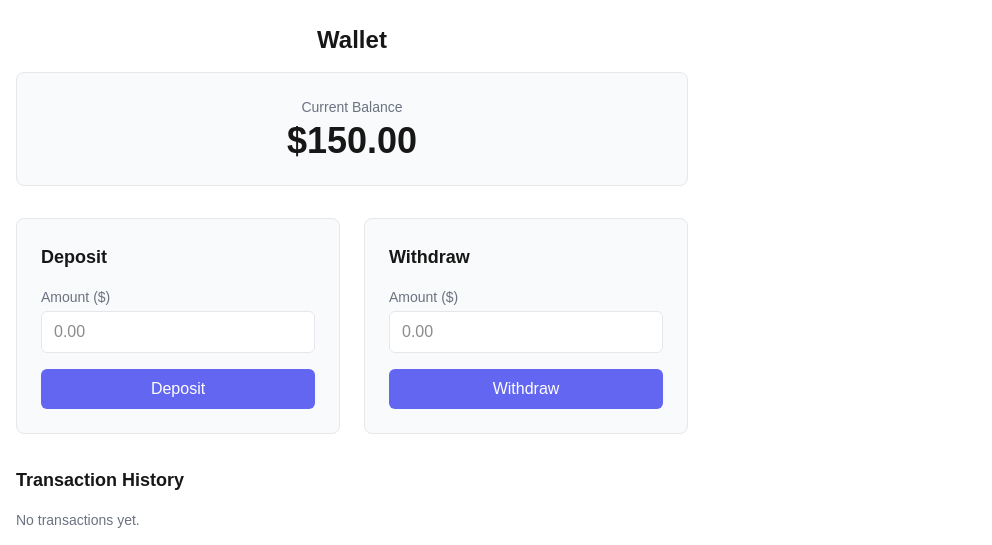
it: WalletPage › submits withdrawal and shows success toast
Type "25" into the 2nd number field labelled "Amount ($)". click: (526, 332)
box: top-left (389, 311), bottom-right (663, 353)
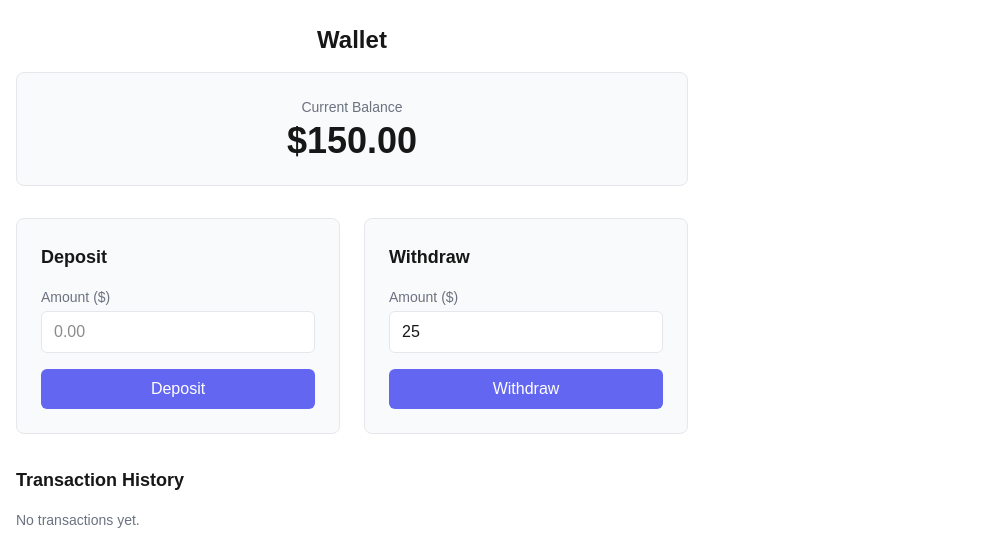
Click the button "Withdraw". click: (526, 389)
box: top-left (389, 369), bottom-right (663, 409)
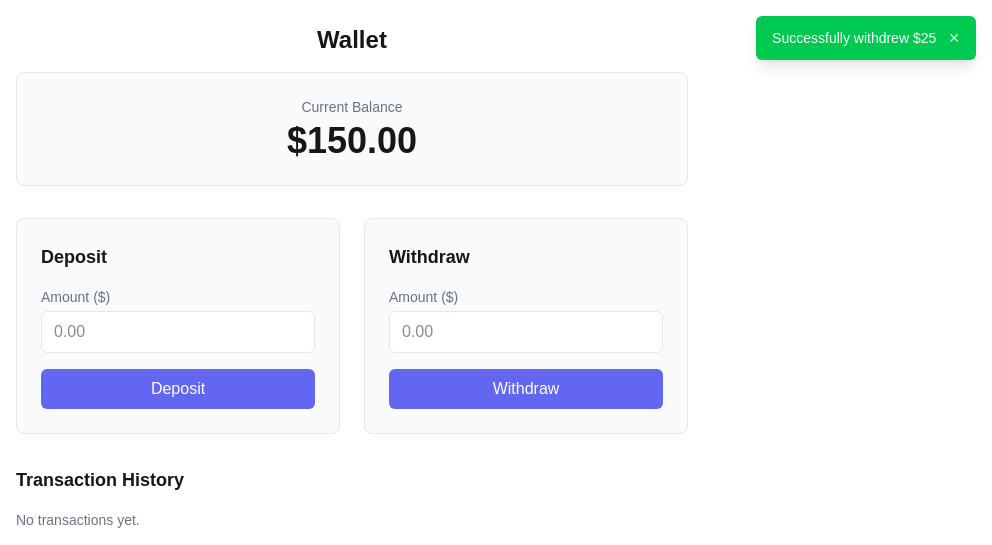
Now the text "Successfully withdrew $25" is shown, box top-left (772, 28), bottom-right (936, 48)
